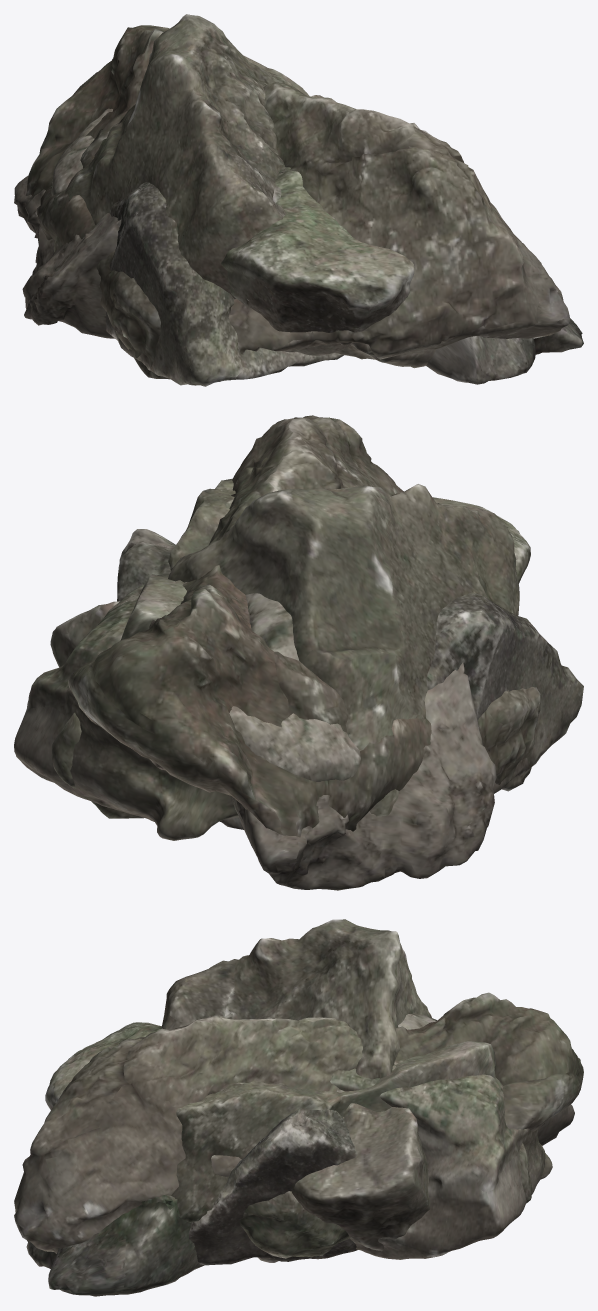
The model's file is rock_moss_set_01.glb.
3 views of the same model, one above another, from view 1: azimuth 30°, elevation 25°; view 2: azimuth 150°, elevation 25°; view 3: azimuth 270°, elevation 25° (orthographic). The views are drawn at different scales.
Visible parts, largest first — view 1: rock_moss_set_01_a_LOD0, rock_moss_set_01_d_LOD0, rock_moss_set_01_e_LOD0, rock_moss_set_01_c_LOD0, rock_moss_set_01_b_LOD0, rock_moss_set_01_f_LOD0; view 2: rock_moss_set_01_a_LOD0, rock_moss_set_01_d_LOD0, rock_moss_set_01_b_LOD0, rock_moss_set_01_e_LOD0, rock_moss_set_01_c_LOD0, rock_moss_set_01_f_LOD0; view 3: rock_moss_set_01_a_LOD0, rock_moss_set_01_d_LOD0, rock_moss_set_01_e_LOD0, rock_moss_set_01_f_LOD0, rock_moss_set_01_b_LOD0, rock_moss_set_01_c_LOD0.
Boxes of the visible parts, x1=… form: rock_moss_set_01_a_LOD0: x1=25, y1=25, x2=570, y2=379; rock_moss_set_01_d_LOD0: x1=54, y1=14, x2=324, y2=299; rock_moss_set_01_e_LOD0: x1=51, y1=92, x2=414, y2=355; rock_moss_set_01_c_LOD0: x1=105, y1=123, x2=431, y2=386; rock_moss_set_01_b_LOD0: x1=14, y1=175, x2=583, y2=384; rock_moss_set_01_f_LOD0: x1=243, y1=55, x2=435, y2=368; rock_moss_set_01_a_LOD0: x1=68, y1=415, x2=540, y2=845; rock_moss_set_01_d_LOD0: x1=50, y1=484, x2=519, y2=816; rock_moss_set_01_b_LOD0: x1=232, y1=593, x2=496, y2=890; rock_moss_set_01_e_LOD0: x1=14, y1=497, x2=530, y2=840; rock_moss_set_01_c_LOD0: x1=117, y1=529, x2=583, y2=829; rock_moss_set_01_f_LOD0: x1=51, y1=478, x2=235, y2=818; rock_moss_set_01_a_LOD0: x1=14, y1=992, x2=583, y2=1262; rock_moss_set_01_d_LOD0: x1=161, y1=919, x2=431, y2=1251; rock_moss_set_01_e_LOD0: x1=45, y1=1022, x2=552, y2=1259; rock_moss_set_01_f_LOD0: x1=171, y1=1041, x2=532, y2=1258; rock_moss_set_01_b_LOD0: x1=26, y1=1013, x2=574, y2=1296; rock_moss_set_01_c_LOD0: x1=188, y1=1108, x2=358, y2=1265.
Size of what is drawn, in the model's own units: 2.66 by 1.77 by 3.37.
1 material, 1 textured.
